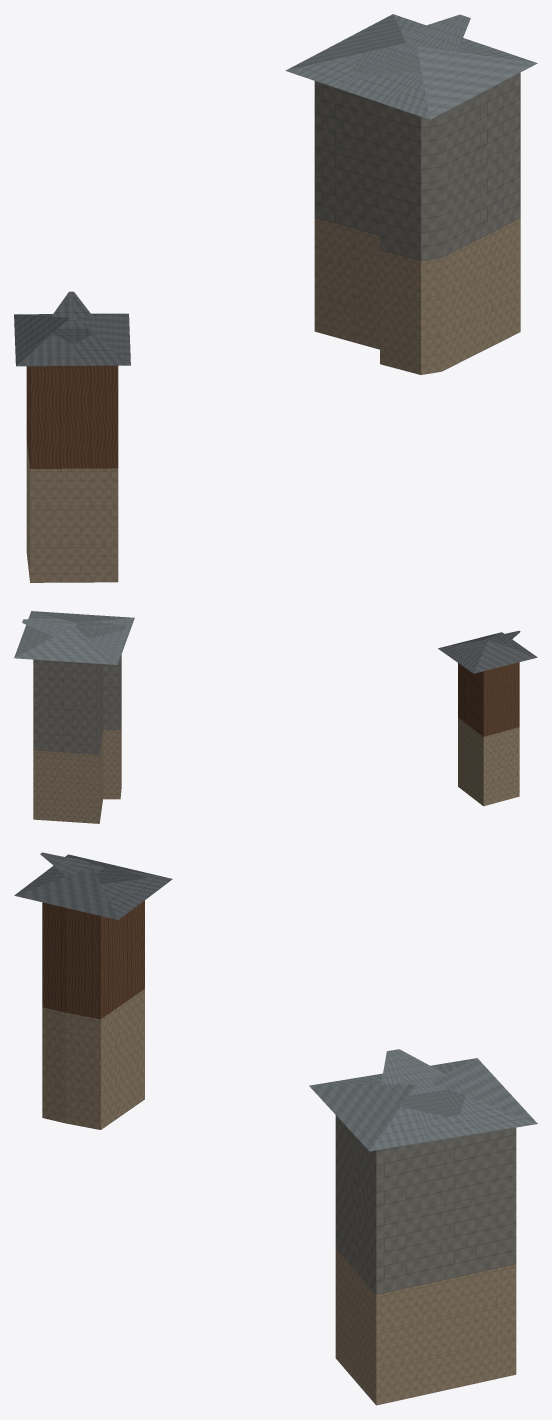
Rendered from bld_c-3_17_532.gltf.
3 views of the same model, one above another, from view 1: azimuth 30°, elevation 25°; view 2: azimuth 150°, elevation 25°; view 3: azimuth 270°, elevation 25° (orthographic). The views are drawn at different scales.
Parts seen in each view (by area): view 1: bld_c-3_17_532; view 2: bld_c-3_17_532; view 3: bld_c-3_17_532.
Part boxes in pixels (bbox=[...]): bld_c-3_17_532: bbox=[14, 14, 537, 582]; bld_c-3_17_532: bbox=[14, 611, 537, 823]; bld_c-3_17_532: bbox=[14, 852, 537, 1405].
Size of the model in its own units: 31.73 by 13 by 21.88.
Materials: 5 (5 with a texture image).
